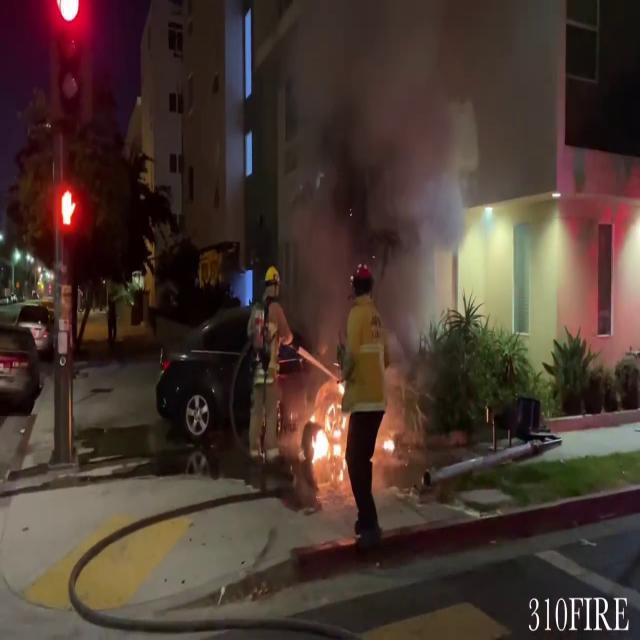Fire: (307, 399, 338, 469)
Smoke: (285, 1, 459, 334)
